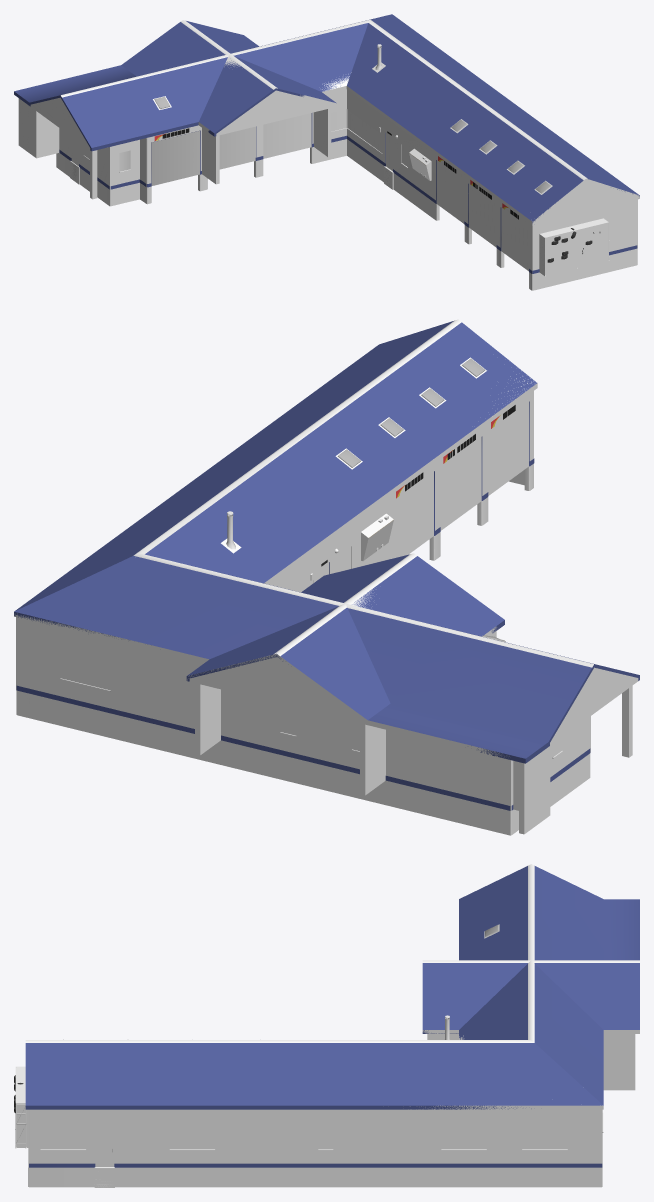
File: eca_gastation_auto_repair.DAE
3 views of the same model, one above another, from view 1: azimuth 30°, elevation 25°; view 2: azimuth 150°, elevation 25°; view 3: azimuth 270°, elevation 25° (orthographic). The views are drawn at different scales.
Parts seen in each view (by area): view 1: eca_gastation_autorepair700, Colmesh-1, eca_gastation_autorepair200; view 2: eca_gastation_autorepair700, Colmesh-1, eca_gastation_autorepair200; view 3: eca_gastation_autorepair700, Colmesh-1.
Part boxes in pixels (left/top/right/bottom): eca_gastation_autorepair700: left=14, top=14, right=639, bottom=290; Colmesh-1: left=18, top=57, right=639, bottom=275; eca_gastation_autorepair200: left=70, top=89, right=429, bottom=202; eca_gastation_autorepair700: left=14, top=319, right=639, bottom=835; Colmesh-1: left=14, top=370, right=638, bottom=834; eca_gastation_autorepair200: left=269, top=470, right=524, bottom=591; eca_gastation_autorepair700: left=14, top=864, right=639, bottom=1187; Colmesh-1: left=15, top=1030, right=639, bottom=1167.
Bounding box in the file's own units: 22.74 × 29.09 × 6.45.
